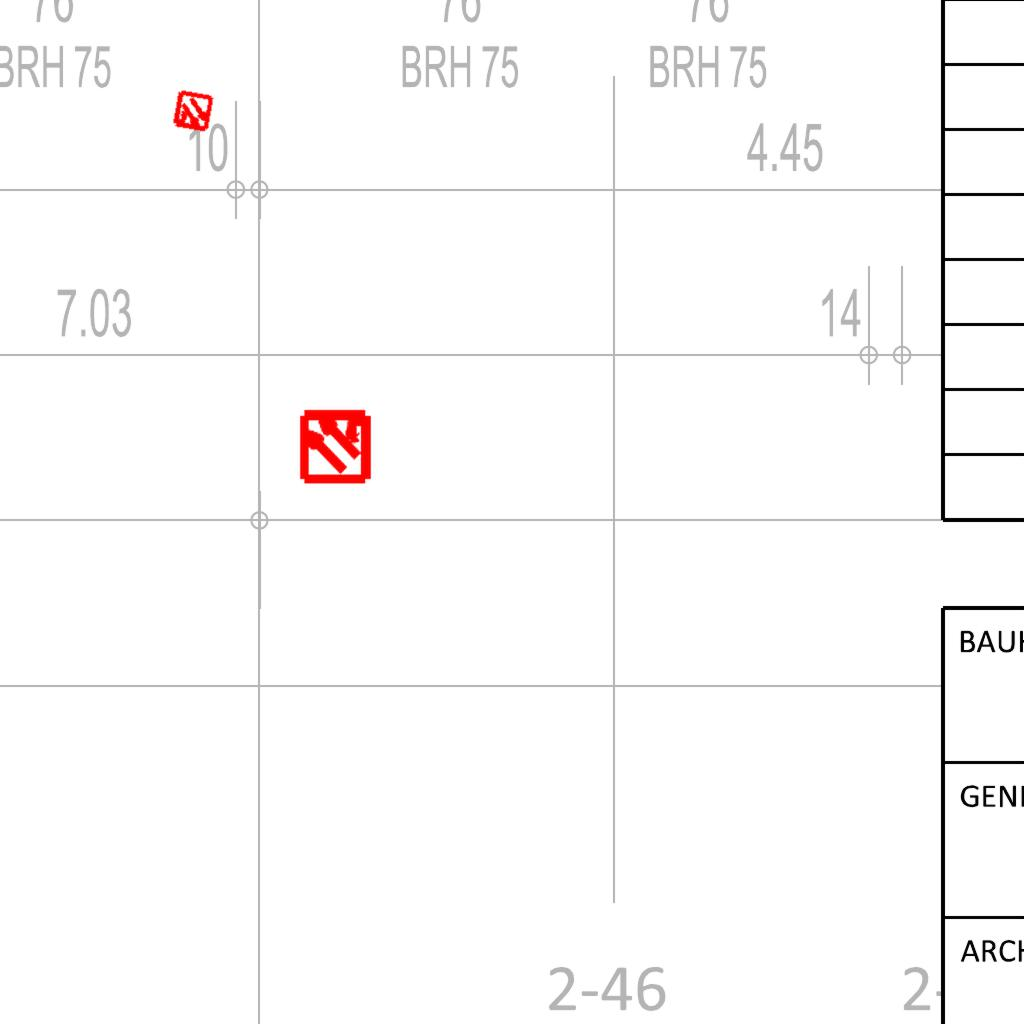OT_Multisensormelder_(Kombination_RMO_WMD): (279, 388, 392, 501), (160, 79, 226, 145)
